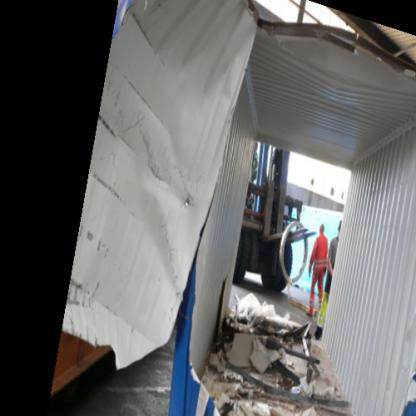Damage: (111, 2, 415, 415)
